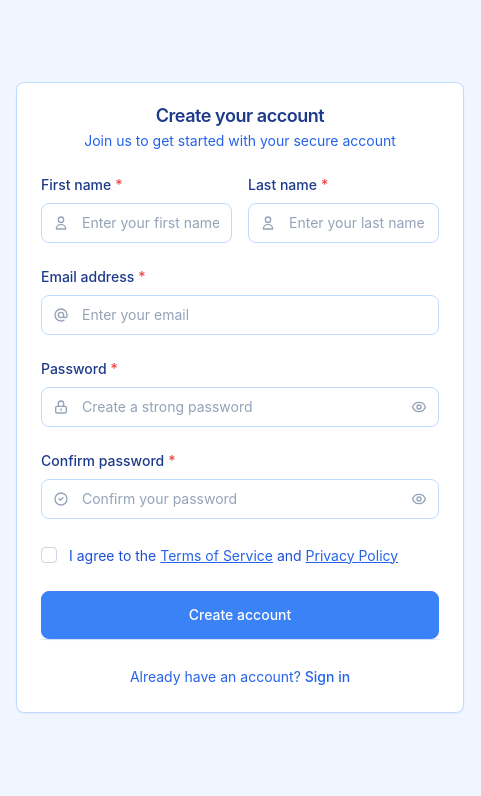
Test: SignupForm › Form Validation › should show error for empty first name
What coordinates should you click on to do the following:
click the button "Create account"
I would click on:
 (240, 614)
Its box is top-left (41, 590), bottom-right (439, 638).
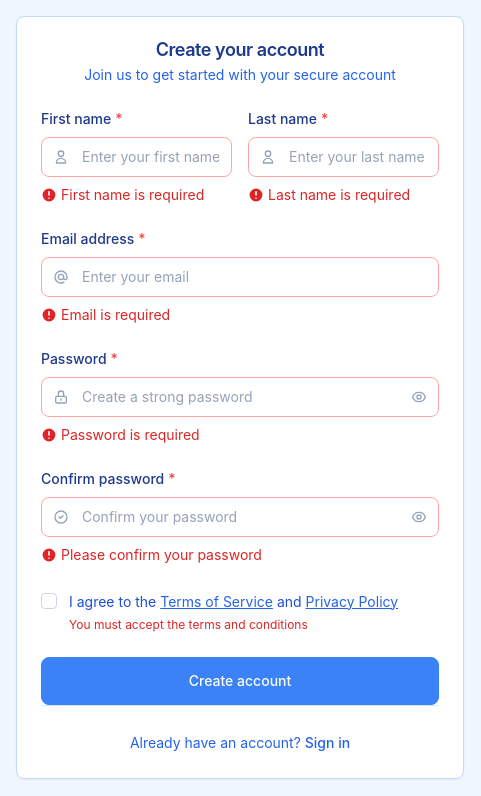
Result: the text "First name is required" is shown at top-left (61, 184), bottom-right (204, 204)
